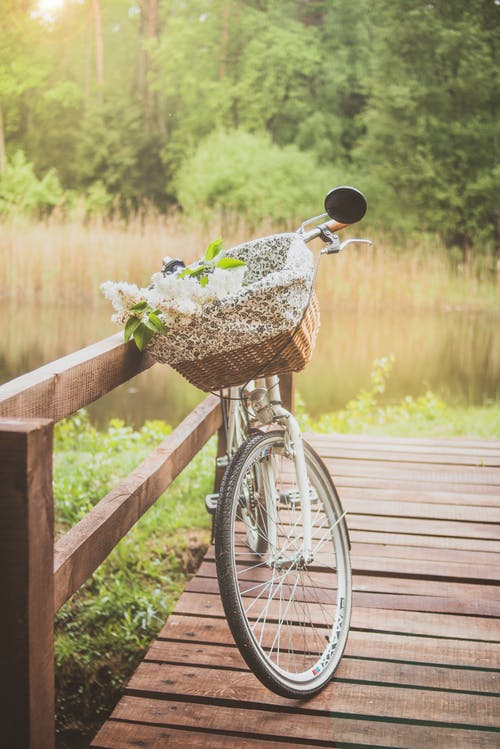bicycle: (93, 173, 388, 709)
